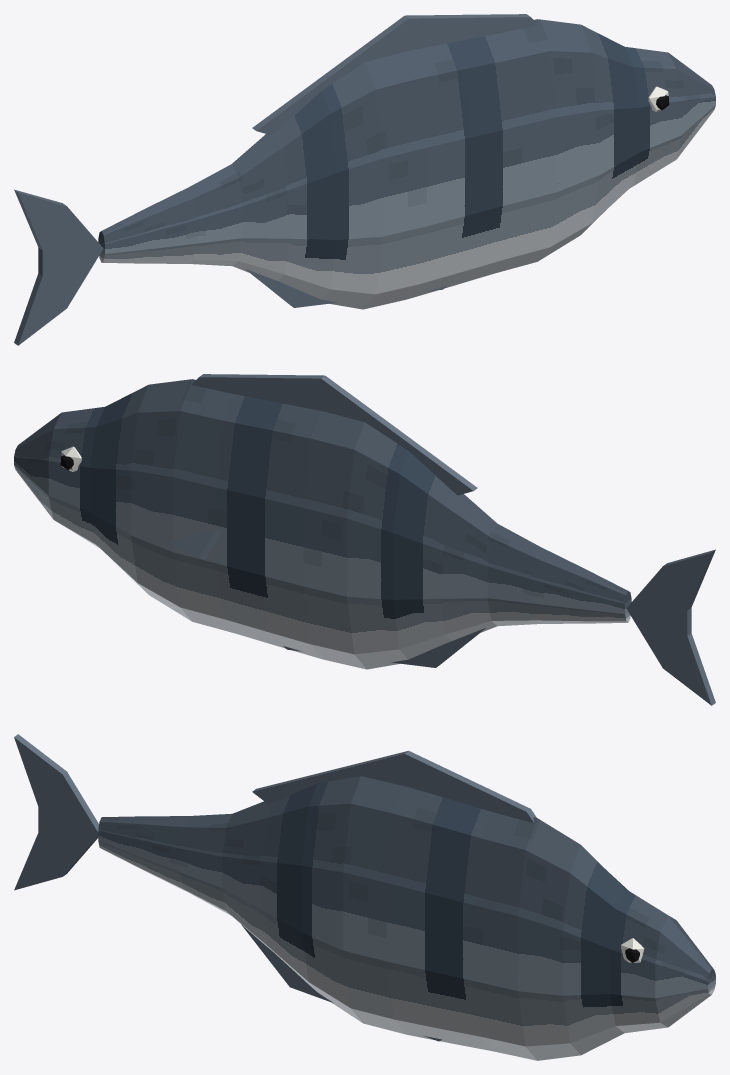
Rendered from sea_sweep.glb.
The picture shows the model from 3 angles, top to bottom: view 1: azimuth 30°, elevation 25°; view 2: azimuth 150°, elevation 25°; view 3: azimuth 330°, elevation 25°; orthographic projection.
Parts seen in each view (by area): view 1: fish_sea_sweep; view 2: fish_sea_sweep; view 3: fish_sea_sweep.
Boxes of the visible parts, x1,y1,x2,y2 form: fish_sea_sweep: [14, 14, 715, 345]; fish_sea_sweep: [14, 374, 715, 705]; fish_sea_sweep: [14, 734, 715, 1060].
Size of the model in its own units: 1.14 by 0.4423 by 0.1417.
4 materials, 1 textured.
